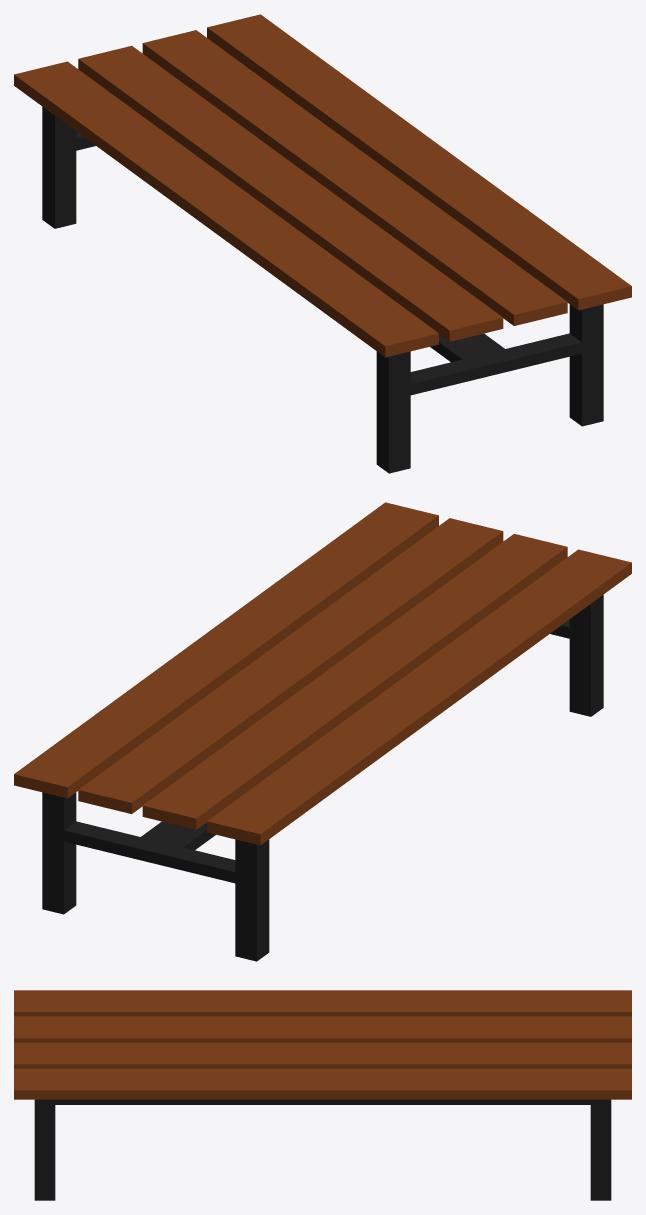
File: Bench2.obj
3 renders of one model, top to bottom at view 1: azimuth 30°, elevation 25°; view 2: azimuth 150°, elevation 25°; view 3: azimuth 270°, elevation 25°, orthographic. The views are drawn at different scales.
Visible parts, largest first — view 1: Bench2_Group Bench2_Board1, Bench2_Group Bench2_Board2, Bench2_Group Bench2_Board3, Bench2_Group Bench2_Board4, Bench2_Group Bench2_Leg1, Bench2_Group Bench2_Support3, Bench2_Group Bench2_Leg2, Bench2_Group Bench2_Leg4, Bench2_Support5 Bench2_Group; view 2: Bench2_Group Bench2_Board1, Bench2_Group Bench2_Board2, Bench2_Group Bench2_Board3, Bench2_Group Bench2_Board4, Bench2_Group Bench2_Leg4, Bench2_Group Bench2_Support4, Bench2_Group Bench2_Leg3, Bench2_Group Bench2_Leg1, Bench2_Support5 Bench2_Group; view 3: Bench2_Group Bench2_Board4, Bench2_Group Bench2_Board3, Bench2_Group Bench2_Board2, Bench2_Group Bench2_Board1, Bench2_Support5 Bench2_Group, Bench2_Group Bench2_Leg3, Bench2_Group Bench2_Leg2.
Part boxes in pixels (bbox=[...]): Bench2_Group Bench2_Board1: bbox=[14, 61, 438, 357]; Bench2_Group Bench2_Board2: bbox=[78, 46, 503, 341]; Bench2_Group Bench2_Board3: bbox=[142, 30, 567, 325]; Bench2_Group Bench2_Board4: bbox=[207, 14, 631, 310]; Bench2_Group Bench2_Leg1: bbox=[376, 351, 410, 473]; Bench2_Group Bench2_Support3: bbox=[410, 333, 581, 395]; Bench2_Group Bench2_Leg2: bbox=[569, 304, 603, 426]; Bench2_Group Bench2_Leg4: bbox=[42, 107, 76, 228]; Bench2_Support5 Bench2_Group: bbox=[430, 333, 504, 362]; Bench2_Group Bench2_Board1: bbox=[207, 549, 631, 845]; Bench2_Group Bench2_Board2: bbox=[142, 534, 567, 829]; Bench2_Group Bench2_Board3: bbox=[78, 518, 503, 813]; Bench2_Group Bench2_Board4: bbox=[14, 502, 438, 798]; Bench2_Group Bench2_Leg4: bbox=[235, 839, 269, 961]; Bench2_Group Bench2_Support4: bbox=[64, 821, 235, 883]; Bench2_Group Bench2_Leg3: bbox=[42, 792, 76, 914]; Bench2_Group Bench2_Leg1: bbox=[569, 595, 603, 716]; Bench2_Support5 Bench2_Group: bbox=[141, 821, 215, 850]; Bench2_Group Bench2_Board4: bbox=[14, 1068, 631, 1099]; Bench2_Group Bench2_Board3: bbox=[14, 1042, 631, 1068]; Bench2_Group Bench2_Board2: bbox=[14, 1016, 631, 1042]; Bench2_Group Bench2_Board1: bbox=[14, 990, 631, 1016]; Bench2_Support5 Bench2_Group: bbox=[55, 1099, 590, 1104]; Bench2_Group Bench2_Leg3: bbox=[590, 1099, 611, 1200]; Bench2_Group Bench2_Leg2: bbox=[34, 1099, 55, 1200].
Size of the model in its own units: 2.3 by 1.25 by 6.
